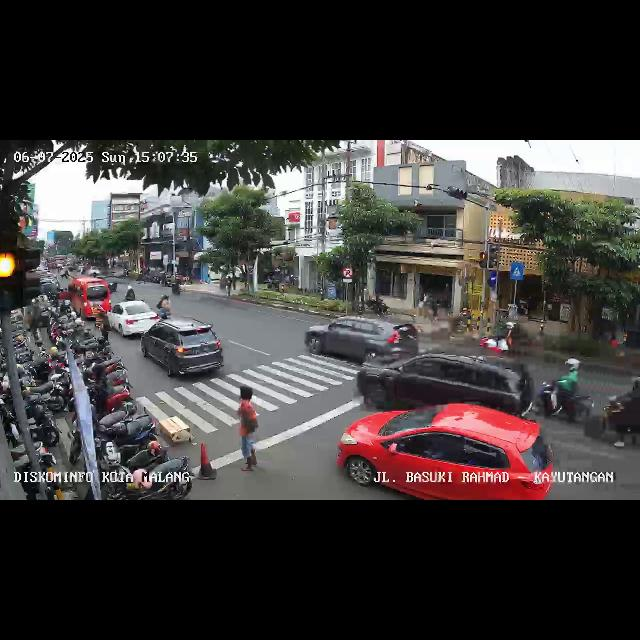car: (338, 404, 556, 500), (358, 354, 536, 416), (304, 314, 422, 368), (142, 320, 226, 380), (106, 300, 160, 340), (66, 276, 110, 320)
motorcycle: (532, 358, 600, 434), (602, 371, 638, 452), (480, 314, 534, 354), (156, 294, 172, 322), (125, 284, 135, 304)
person: (234, 389, 262, 475)
